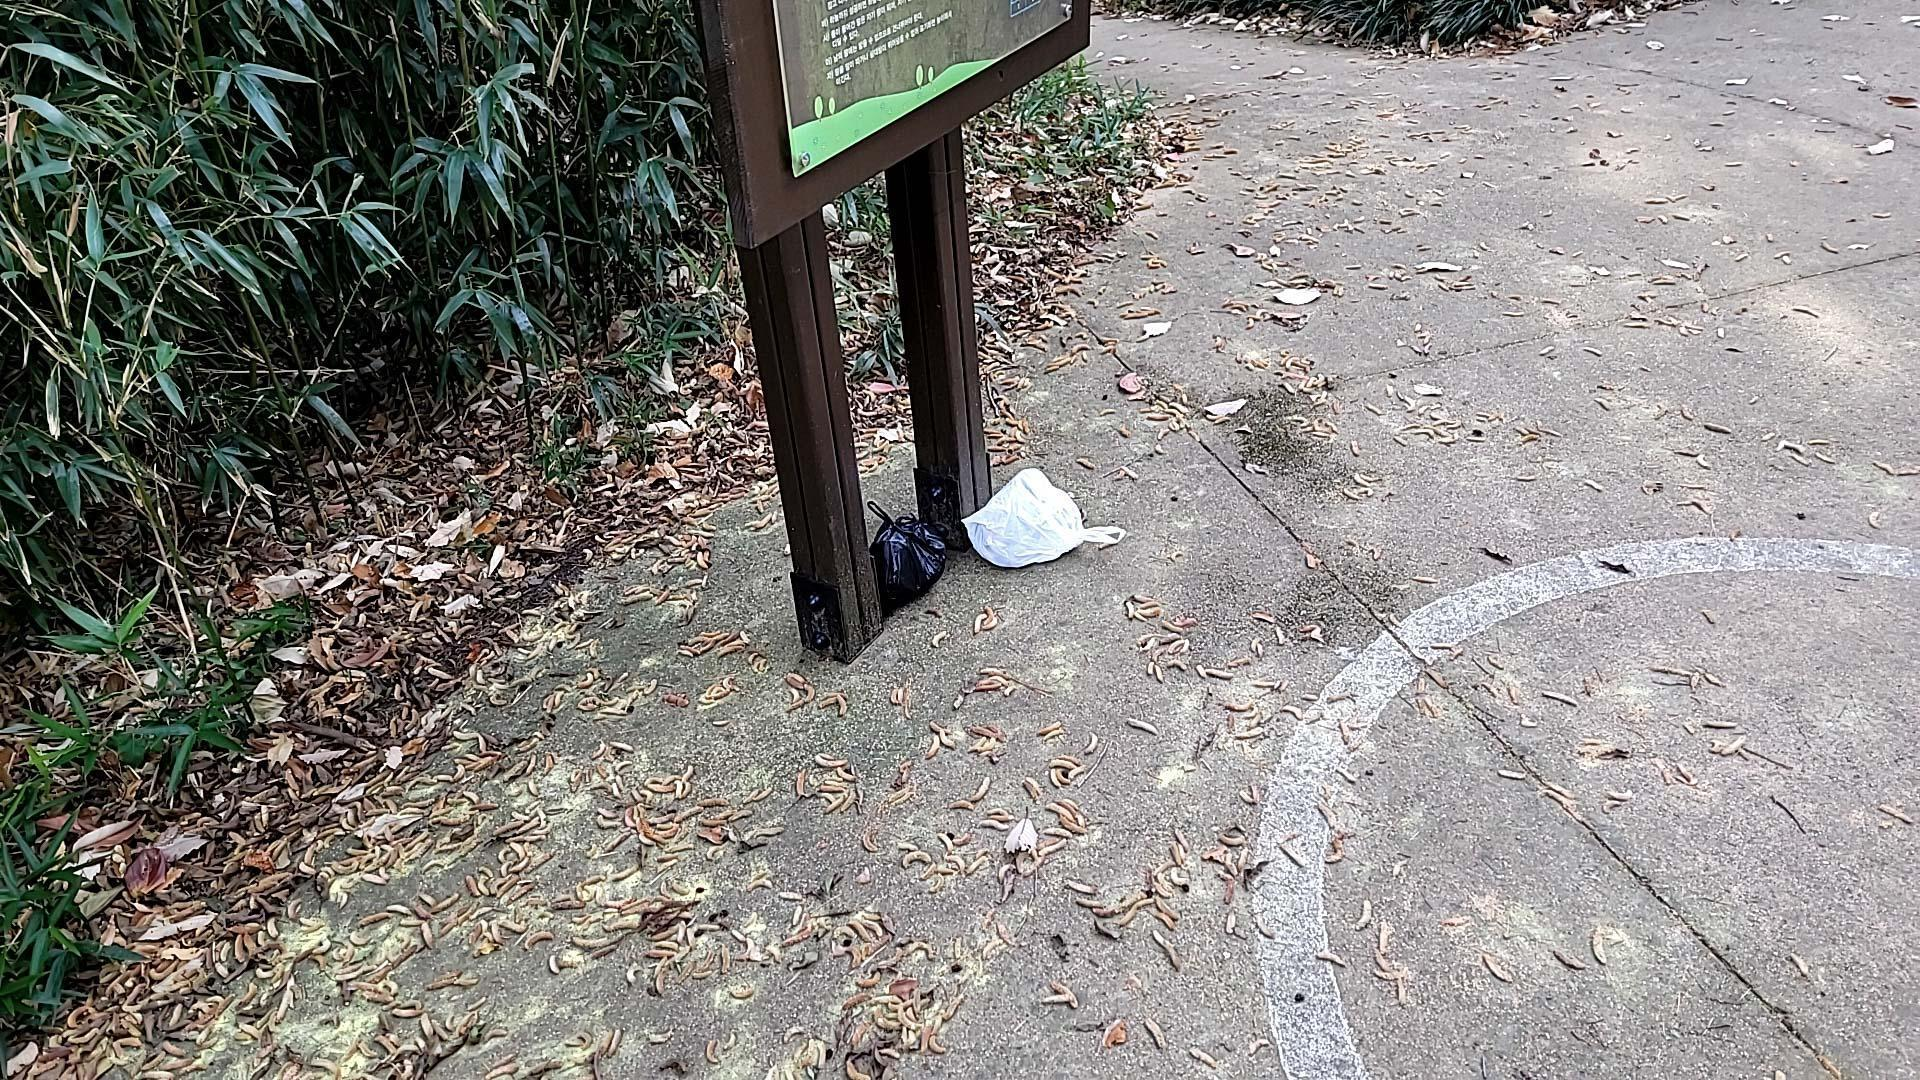black_bag: (862, 498, 945, 607)
white_bag: (956, 459, 1126, 564)
